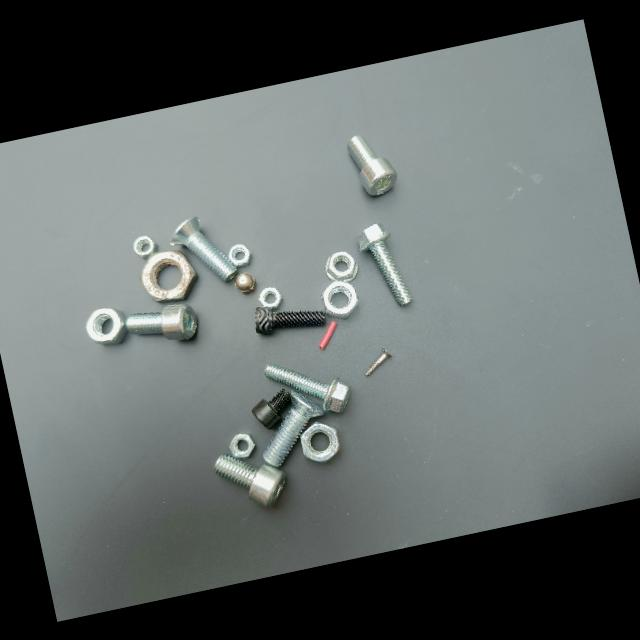bolt: (263, 389, 324, 466), (357, 223, 412, 305), (170, 217, 237, 281), (265, 363, 351, 412), (214, 453, 285, 506), (347, 135, 396, 196), (125, 303, 197, 339), (255, 306, 326, 334), (251, 389, 291, 428), (365, 348, 392, 376)
nuts: (140, 250, 196, 301), (300, 422, 339, 462), (85, 308, 128, 344), (322, 280, 358, 318), (325, 251, 358, 282), (228, 433, 255, 458), (133, 235, 158, 259), (228, 244, 251, 267), (259, 287, 282, 309), (234, 272, 256, 294)
